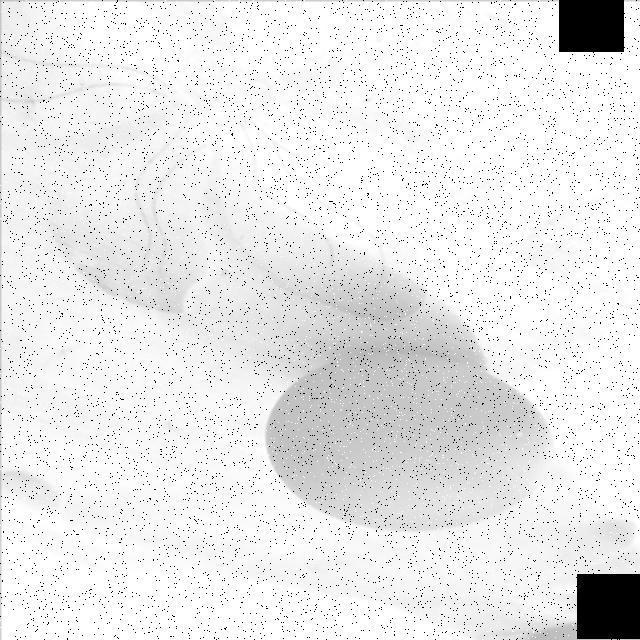egg: (258, 344, 558, 532)
